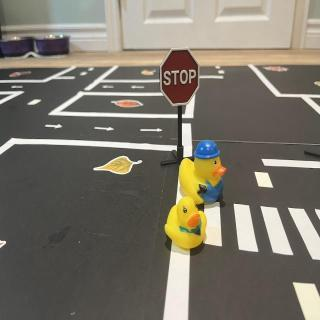duck_regular: (166, 199, 208, 250)
duck_specialty: (181, 141, 227, 203)
road_crosswalk: (202, 197, 320, 265)
road_oneway: (139, 127, 165, 137), (45, 123, 64, 132), (92, 127, 116, 134), (132, 84, 146, 92), (103, 85, 117, 92), (10, 86, 26, 90)
sign_stop: (161, 50, 201, 109)
